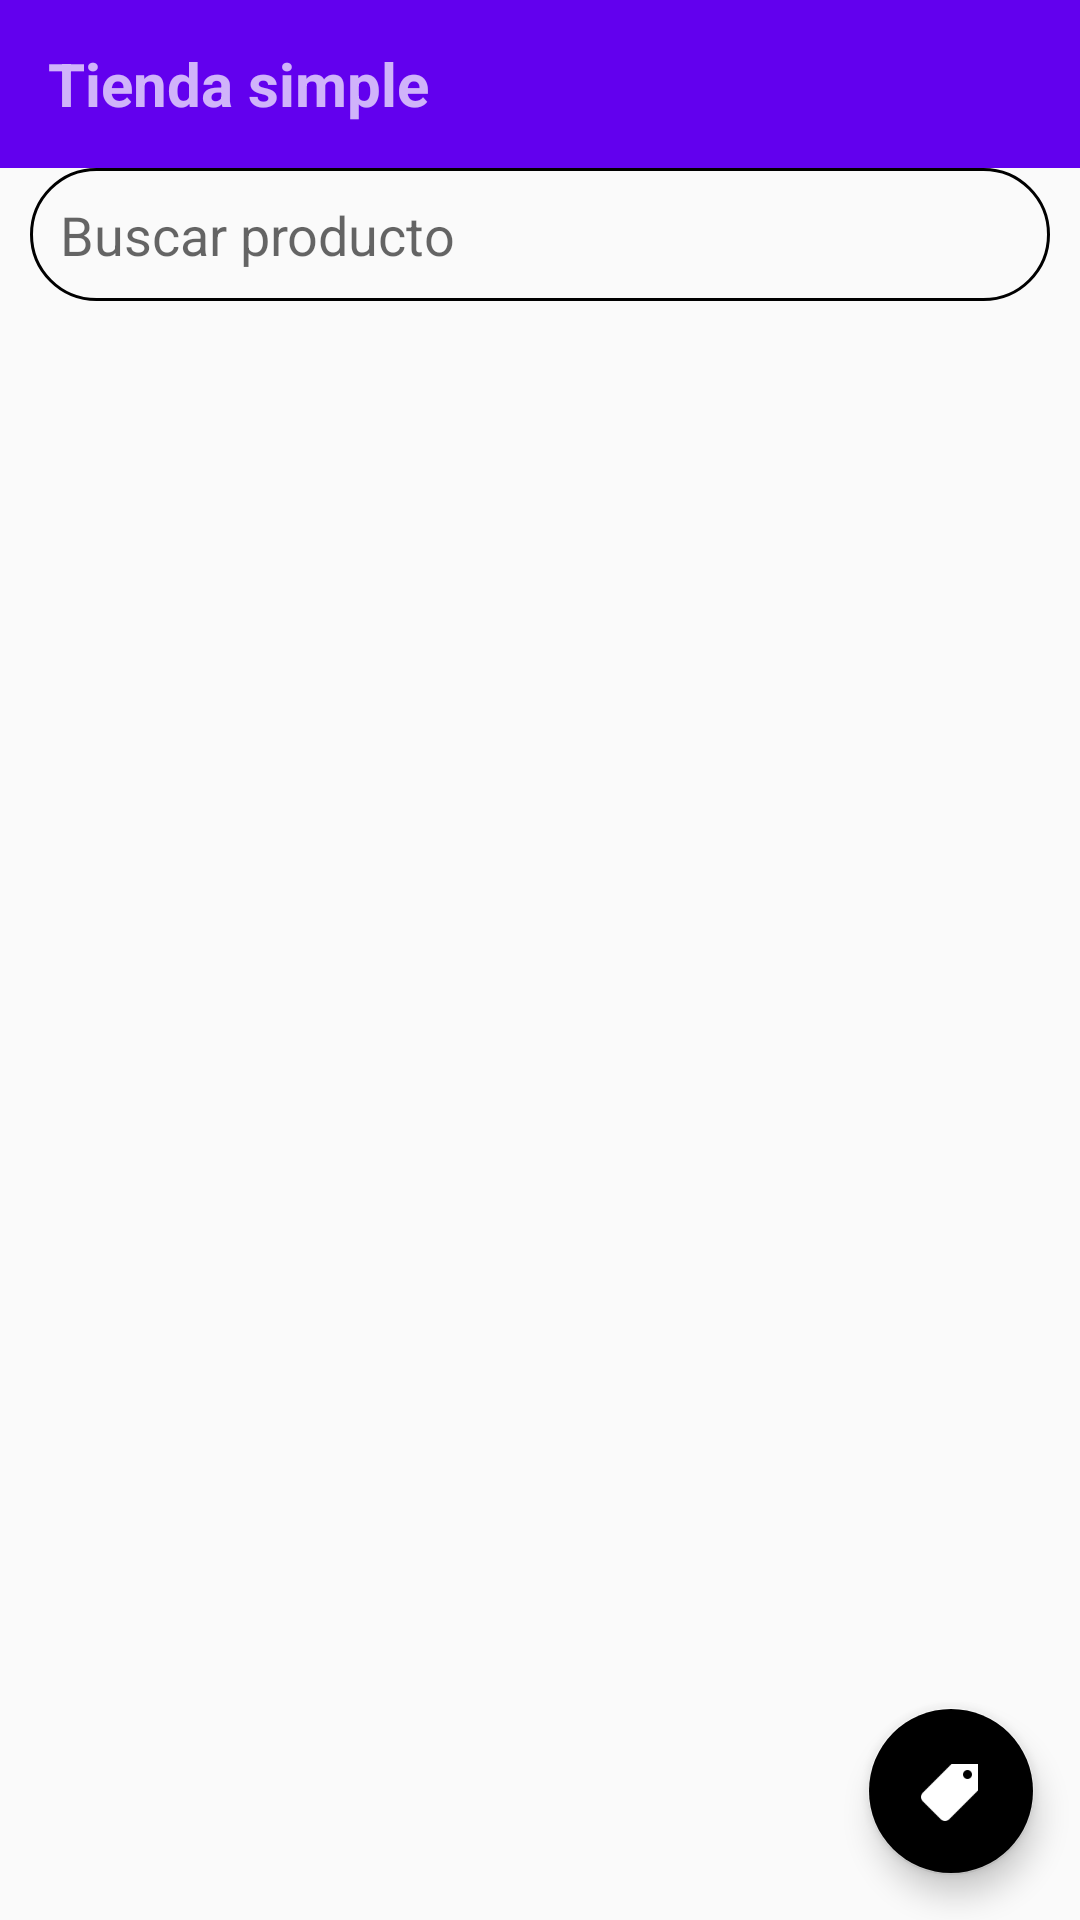

Icon bounding boxes for this 1080*1920 phone screenshot, format (x1, y1, x2, y2):
flo venta: (869, 1709, 1035, 1875)
